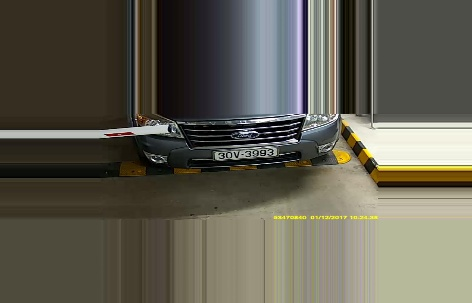plate: (210, 148, 277, 159)
